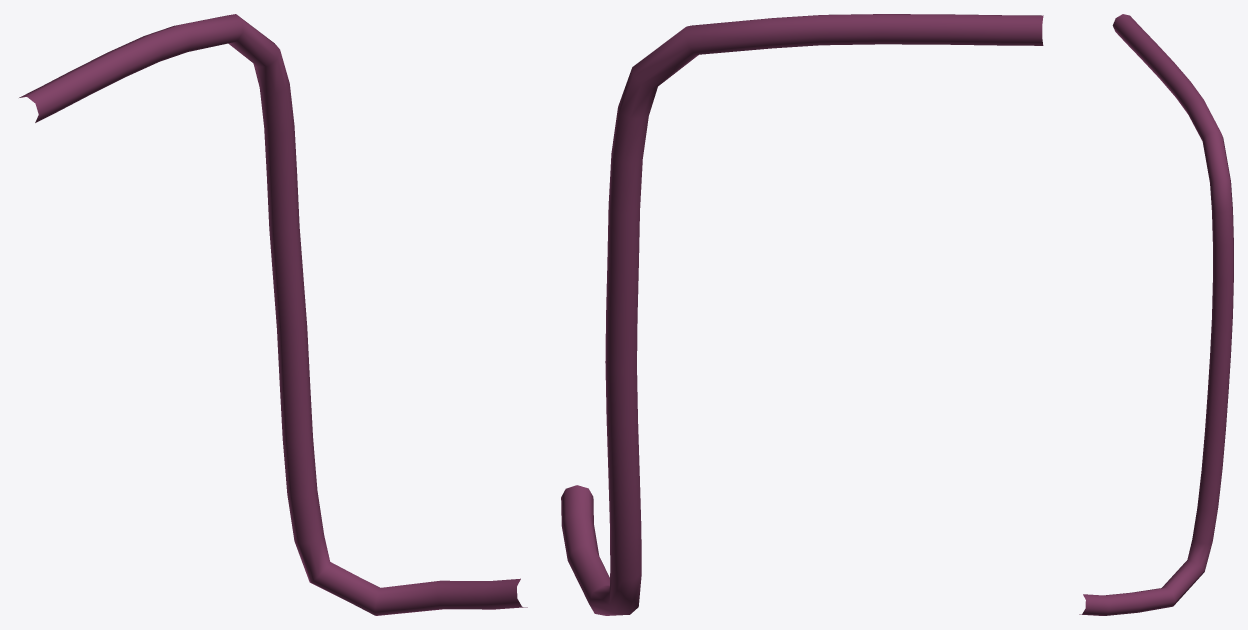
File: SM_TD2_Cable_D2_D3.gltf
3 views of the same model, side by side, from view 1: azimuth 30°, elevation 25°; view 2: azimuth 150°, elevation 25°; view 3: azimuth 270°, elevation 25° (orthographic). The views are drawn at different scales.
Visible parts, largest first — view 1: SM_TD2_Cable_D2_D3; view 2: SM_TD2_Cable_D2_D3; view 3: SM_TD2_Cable_D2_D3.
Part boxes in pixels (<box>): SM_TD2_Cable_D2_D3: <box>19,14,527,615</box>; SM_TD2_Cable_D2_D3: <box>561,14,1043,615</box>; SM_TD2_Cable_D2_D3: <box>1079,14,1233,615</box>.
Size of the model in its own units: 0.6627 by 0.828 by 0.2617.
